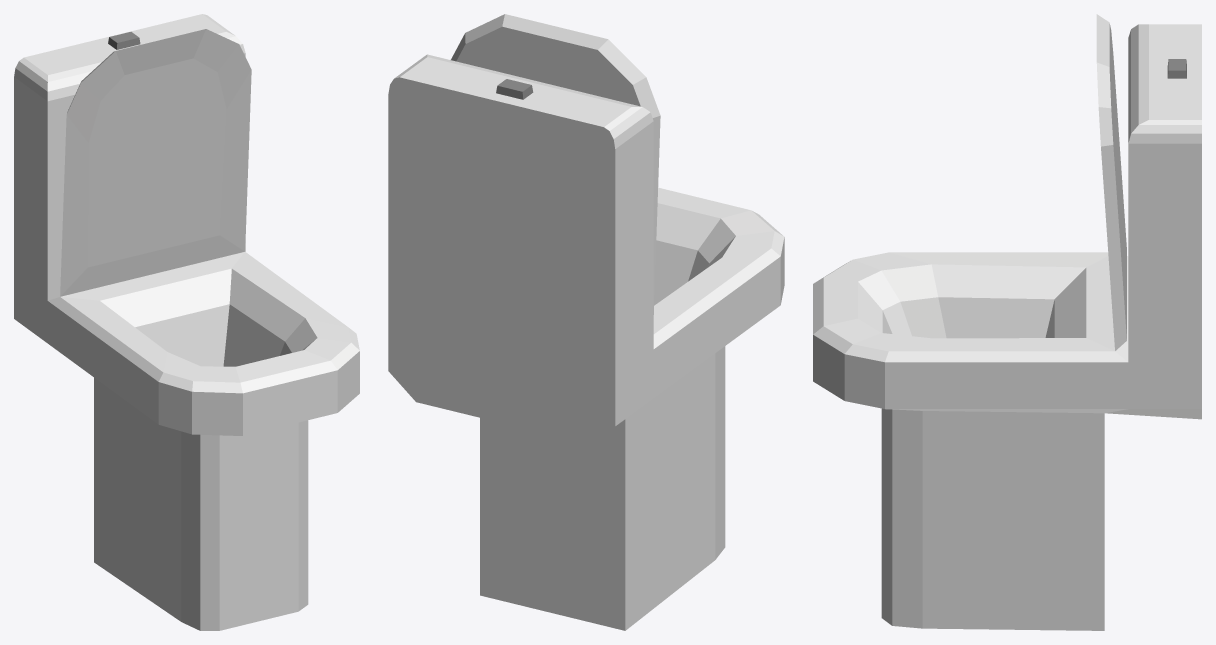
File: ToiletOpen.fbx
3 views of the same model, side by side, from view 1: azimuth 30°, elevation 25°; view 2: azimuth 150°, elevation 25°; view 3: azimuth 270°, elevation 25° (orthographic). The views are drawn at different scales.
Parts seen in each view (by area): view 1: ToiletOpen; view 2: ToiletOpen; view 3: ToiletOpen.
Boxes of the visible parts, box(x1,y1,x2,y2) form: ToiletOpen: box(14, 14, 359, 630); ToiletOpen: box(388, 14, 784, 630); ToiletOpen: box(813, 14, 1201, 630).
Size of the model in its own units: 52.91 by 130 by 82.06.
